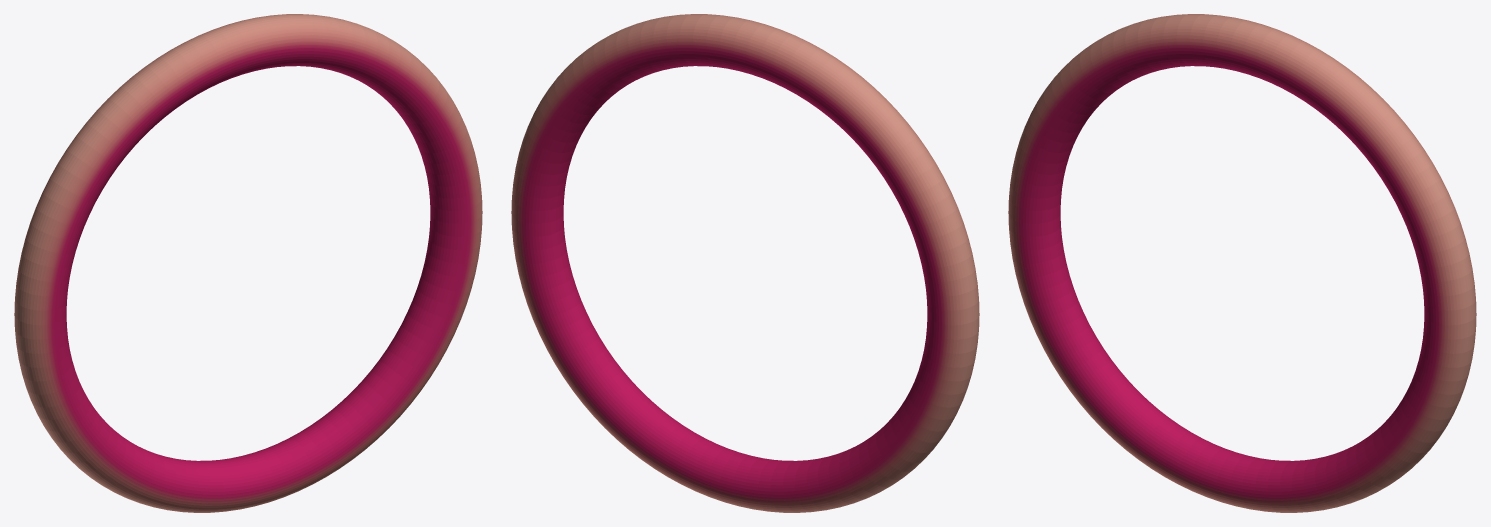
3 renders of one model, left to right at view 1: azimuth 30°, elevation 25°; view 2: azimuth 150°, elevation 25°; view 3: azimuth 330°, elevation 25°, orthographic.
Parts seen in each view (by area): view 1: world; view 2: world; view 3: world.
Part boxes in pixels (x1,y1,x2,y2): world: (14,14,482,512); world: (511,14,979,512); world: (1008,14,1476,512).
Size of the model in its own units: 25.87 by 25.87 by 2.53.
